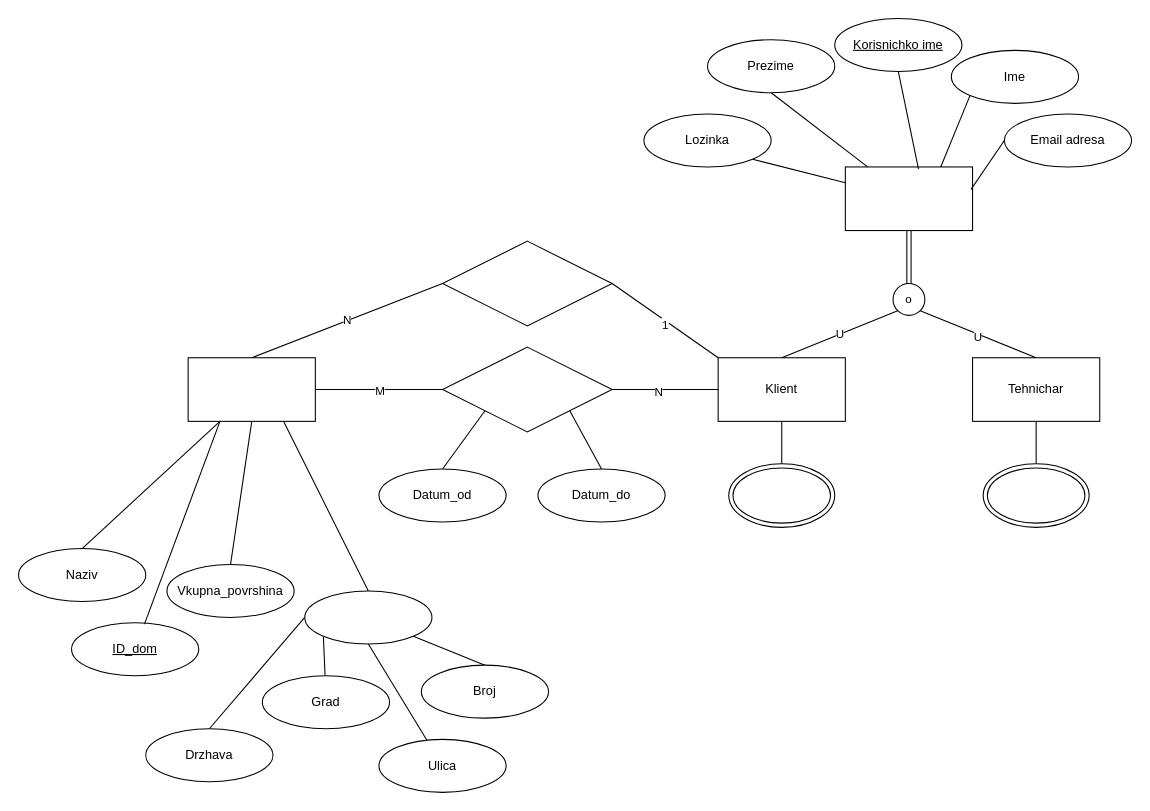
This 1150x811 diagram has some shape labels left out. The centre of each missing label's shape, as x and y in pixels:
Administrator: the point at 526,283
Adresa: the point at 368,617
Chlenuva: the point at 526,389
Dom: the point at 251,389
Korisnichka smetka: the point at 908,198
Sertifikati: the point at 1035,495
Telefonski_broevi: the point at 781,495
